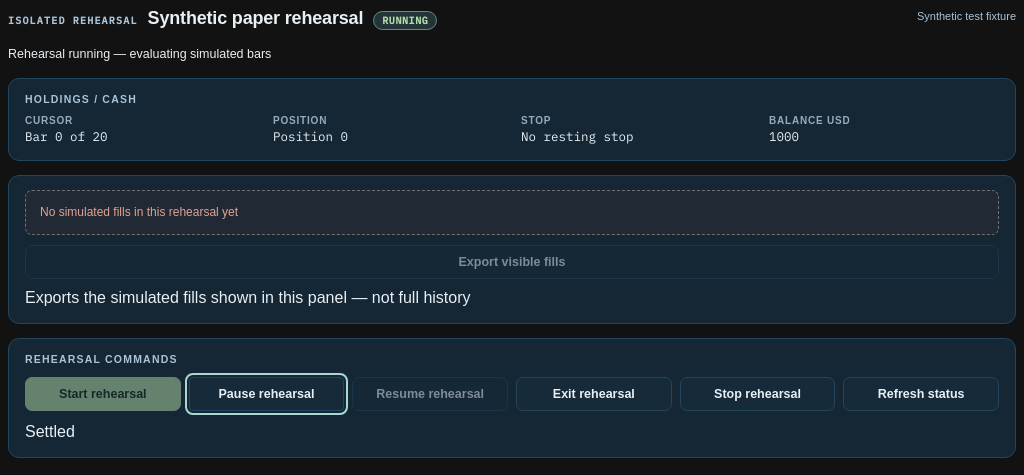
rehearsal-commands-busy › signals pause through settlement and permits later activation
The width and height of the screenshot is (1024, 475).
Expected: the element with test id "rehearsal-holdings-panel" is shown, [8,78,1016,161]
Click the button with test id "rehearsal-command-pause" at point(267, 394), box [189,377,344,411]
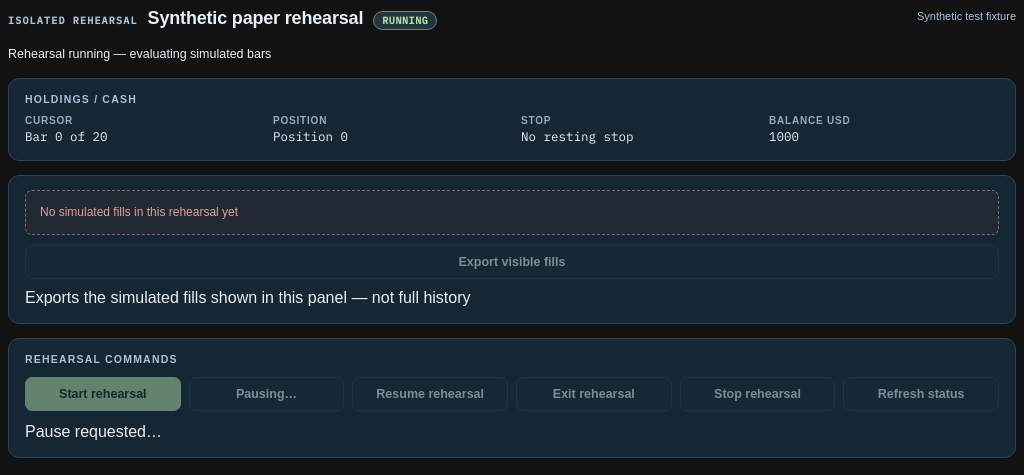
Expected: the button with test id "rehearsal-command-pause" is disabled
Expected: the button with test id "rehearsal-command-pause" reads "Pausing…"
Expected: the text with test id "rehearsal-commands-busy-status" reads "Pause requested…", [25,423,162,440]
Press the mouse on the button with test id "rehearsal-command-pause" at point(267, 394), box [189,377,344,411]
Press Enter in the button with test id "rehearsal-command-pause", box [189,377,344,411]
Click the button with test id "rehearsal-command-pause" at point(267, 394), box [189,377,344,411]
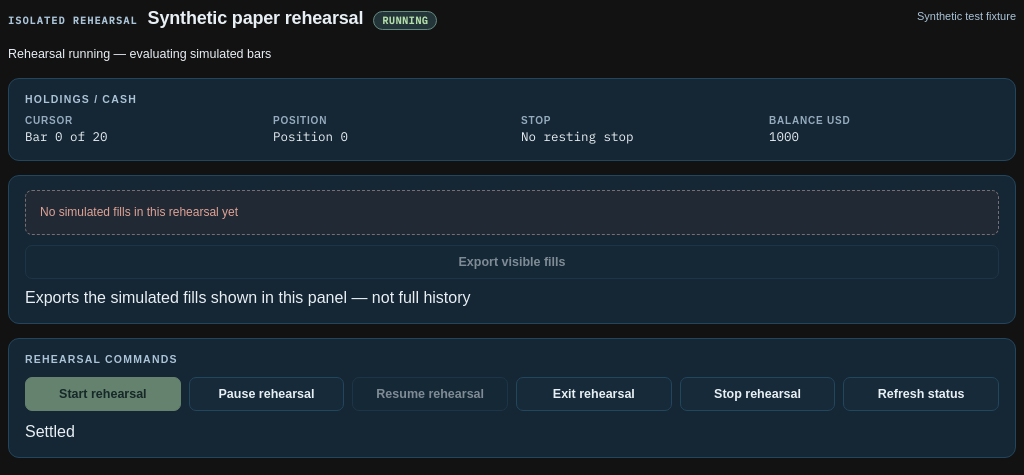
Expected: the button with test id "rehearsal-command-pause" reads "Pause rehearsal"
Expected: the text with test id "rehearsal-commands-busy-status" reads "Settled", [25,423,75,440]
Expected: the button with test id "rehearsal-command-pause" is enabled
Click the button with test id "rehearsal-command-pause" at point(267, 394), box [189,377,344,411]
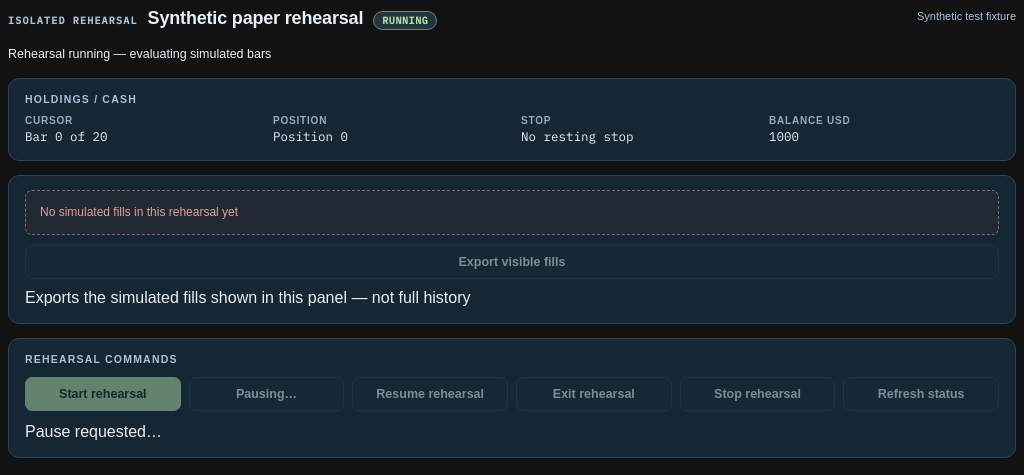
Expected: the button with test id "rehearsal-command-pause" is disabled
Expected: the button with test id "rehearsal-command-pause" reads "Pausing…"
Expected: the text with test id "rehearsal-commands-busy-status" reads "Pause requested…", [25,423,162,440]
Press the mouse on the button with test id "rehearsal-command-pause" at point(267, 394), box [189,377,344,411]
Press Enter in the button with test id "rehearsal-command-pause", box [189,377,344,411]
Click the button with test id "rehearsal-command-pause" at point(267, 394), box [189,377,344,411]
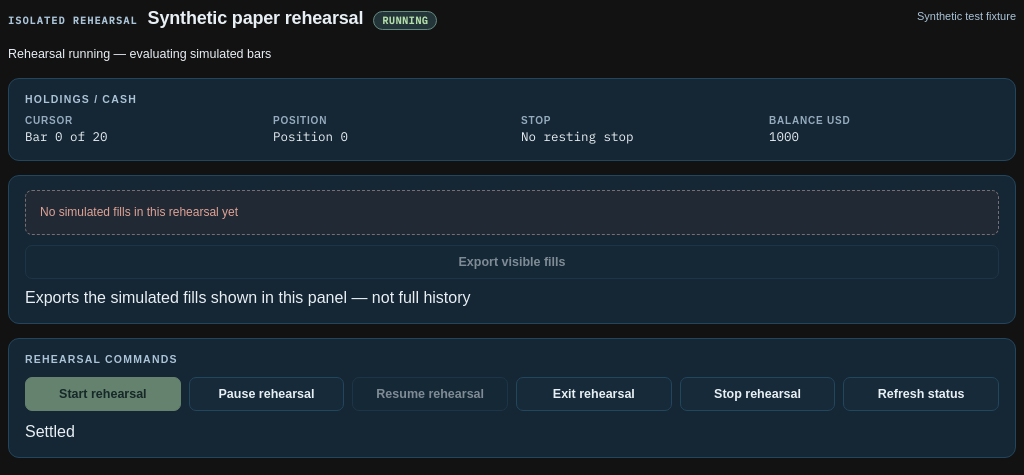
Expected: the button with test id "rehearsal-command-pause" reads "Pause rehearsal", [189,377,344,411]
Expected: the text with test id "rehearsal-commands-busy-status" reads "Settled", [25,423,75,440]
